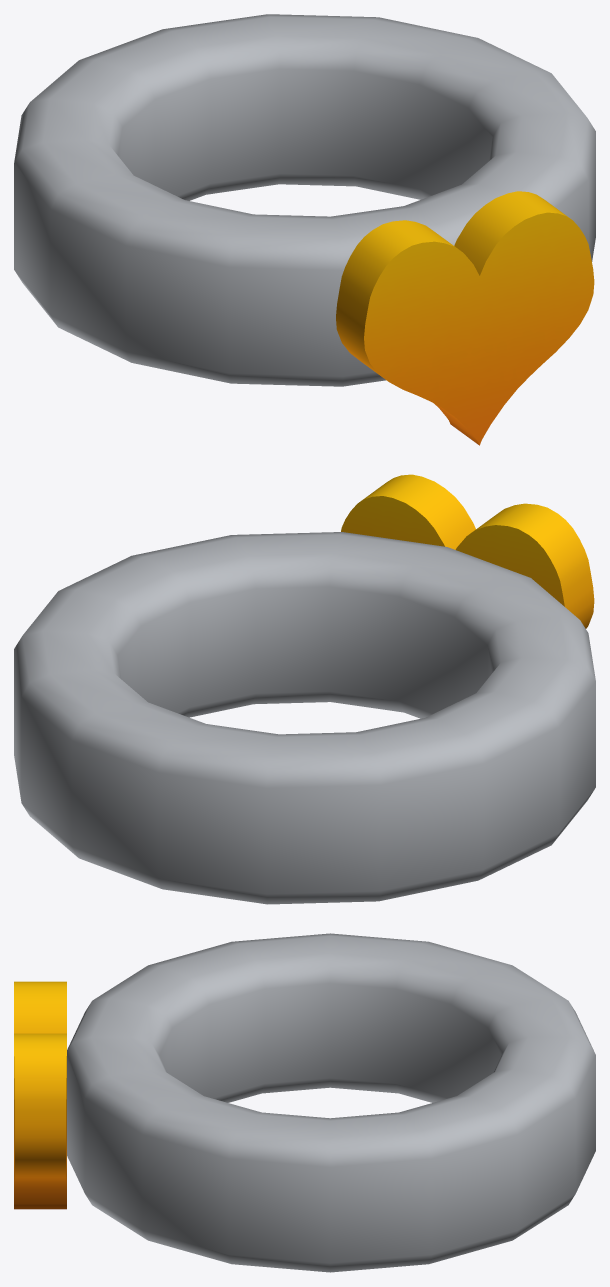
Rendered from Ring3.fbx.
3 renders of one model, top to bottom at view 1: azimuth 30°, elevation 25°; view 2: azimuth 150°, elevation 25°; view 3: azimuth 270°, elevation 25°, orthographic. The views are drawn at different scales.
Parts seen in each view (by area): view 1: Circle.005, Vert.026; view 2: Circle.005, Vert.026; view 3: Circle.005, Vert.026.
Part boxes in pixels (x1=…): Circle.005: x1=14, y1=14, x2=595, y2=386; Vert.026: x1=336, y1=191, x2=594, y2=445; Circle.005: x1=14, y1=532, x2=595, y2=904; Vert.026: x1=341, y1=474, x2=594, y2=628; Circle.005: x1=67, y1=933, x2=595, y2=1272; Vert.026: x1=14, y1=981, x2=66, y2=1209.
Size of the model in its own units: 138 by 56.16 by 151.
